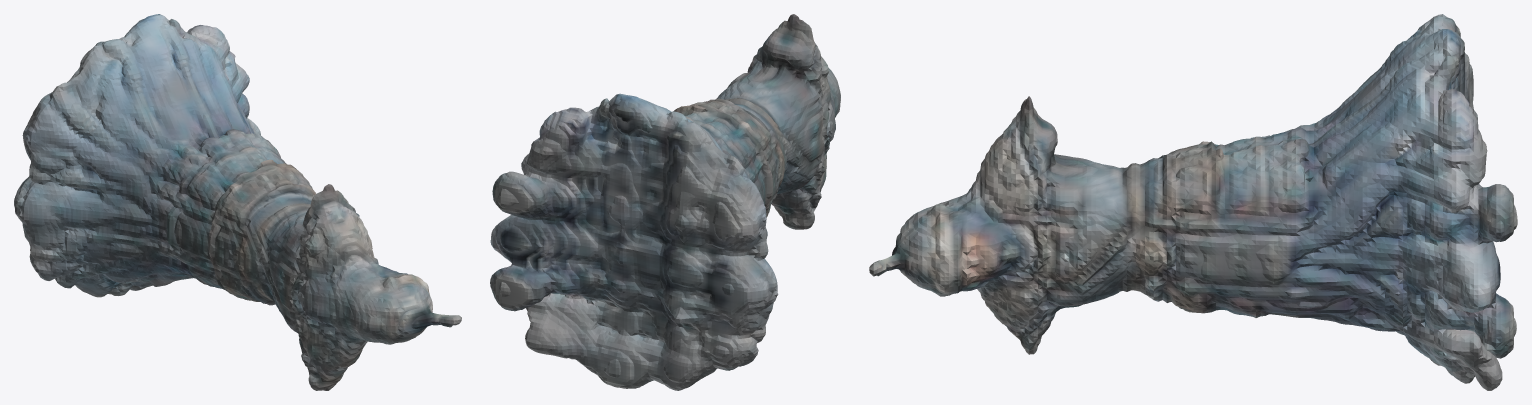
The picture shows the model from 3 angles, left to right: view 1: azimuth 30°, elevation 25°; view 2: azimuth 150°, elevation 25°; view 3: azimuth 270°, elevation 25°; orthographic projection. The views are drawn at different scales.
Visible parts, largest first — view 1: world; view 2: world; view 3: world.
Boxes of the visible parts, x1=… form: world: x1=14, y1=14, x2=461, y2=390; world: x1=490, y1=14, x2=840, y2=390; world: x1=869, y1=14, x2=1517, y2=390.
Bounding box in the file's own units: 0.571 × 0.582 × 0.9946.
